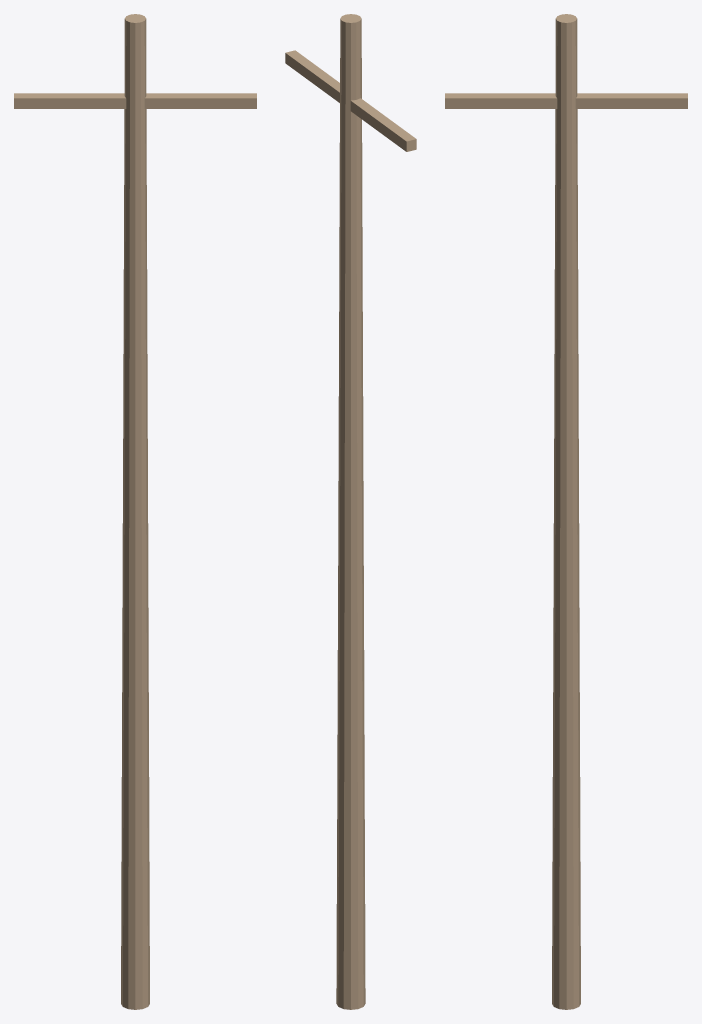
The model's file is power-pole.glb.
3 renders of one model, left to right at view 1: azimuth 90°, elevation 25°; view 2: azimuth 210°, elevation 25°; view 3: azimuth 270°, elevation 25°, orthographic.
Visible parts, largest first — view 1: power-pole; view 2: power-pole; view 3: power-pole.
Boxes of the visible parts, left/top/right/bottom form: power-pole: left=14, top=14, right=256, bottom=1009; power-pole: left=285, top=14, right=416, bottom=1009; power-pole: left=445, top=14, right=687, bottom=1009.
Size of the model in its own units: 0.0268 by 1 by 0.2232.
